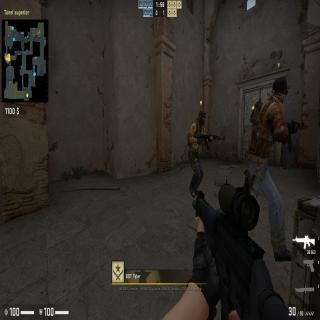T-Head: (273, 74, 288, 100), (198, 110, 207, 126)
